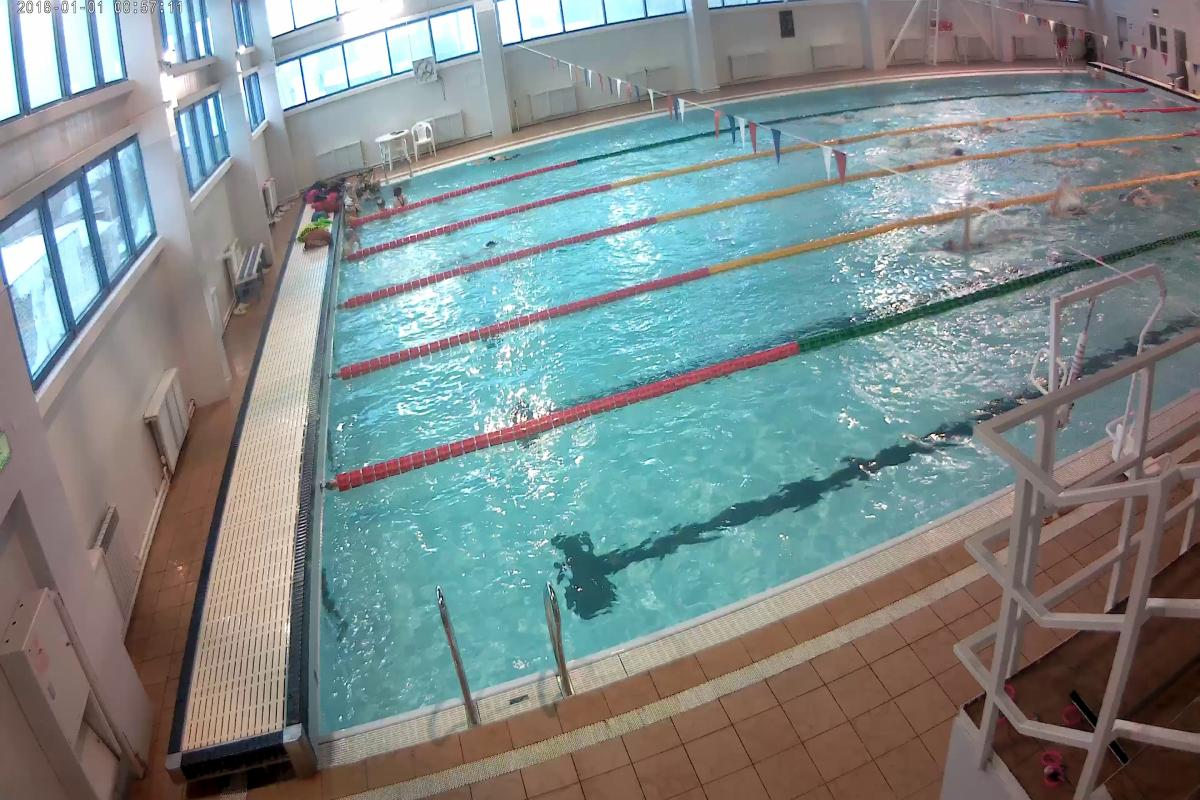swimmer: (934, 226, 1008, 258), (1118, 186, 1174, 206), (1044, 198, 1095, 218), (339, 230, 370, 249)
